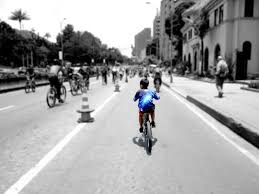human: (134, 77, 160, 122), (213, 52, 228, 100), (48, 58, 62, 83)
